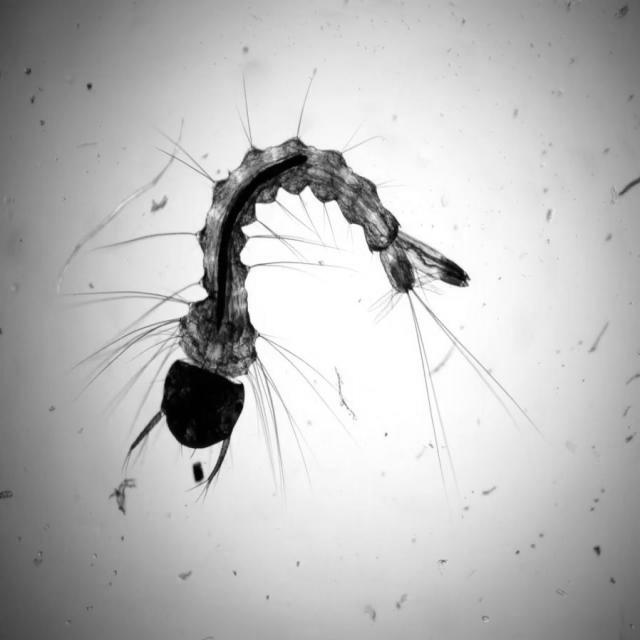larvas: (123, 142, 477, 490)
